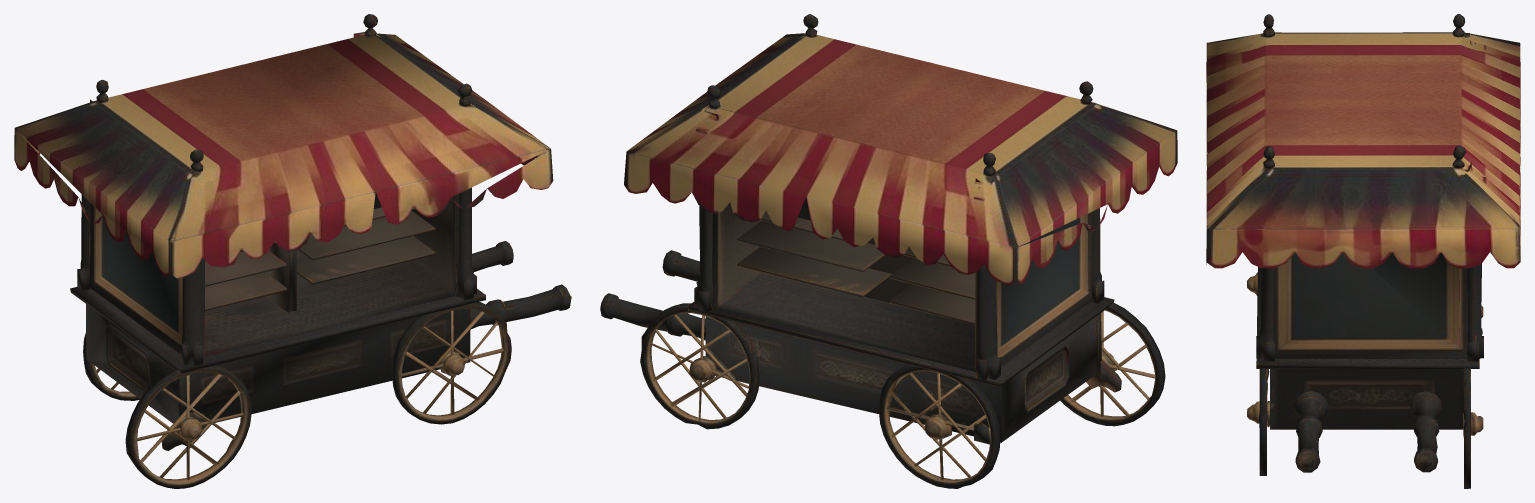
Rendered from mall-mall-kiosk-cart.glb.
3 renders of one model, left to right at view 1: azimuth 30°, elevation 25°; view 2: azimuth 150°, elevation 25°; view 3: azimuth 270°, elevation 25°, orthographic. The views are drawn at different scales.
Parts seen in each view (by area): view 1: mall-kiosk-cart; view 2: mall-kiosk-cart; view 3: mall-kiosk-cart.
Boxes of the visible parts, bbox=[...] form: mall-kiosk-cart: bbox=[14, 14, 571, 488]; mall-kiosk-cart: bbox=[600, 14, 1177, 488]; mall-kiosk-cart: bbox=[1206, 14, 1520, 488].
Size of the model in its own units: 2.5 by 1.71 by 1.46.
1 material, 1 textured.
